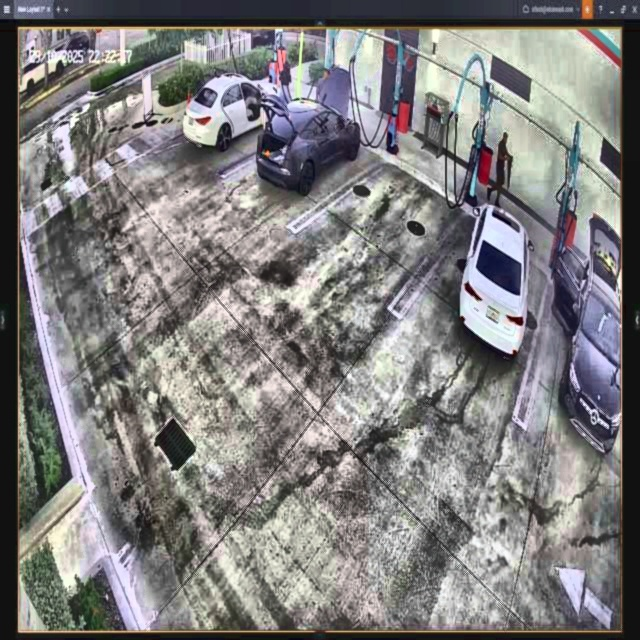Car: (258, 71, 362, 208), (460, 196, 530, 363), (181, 75, 281, 148)
